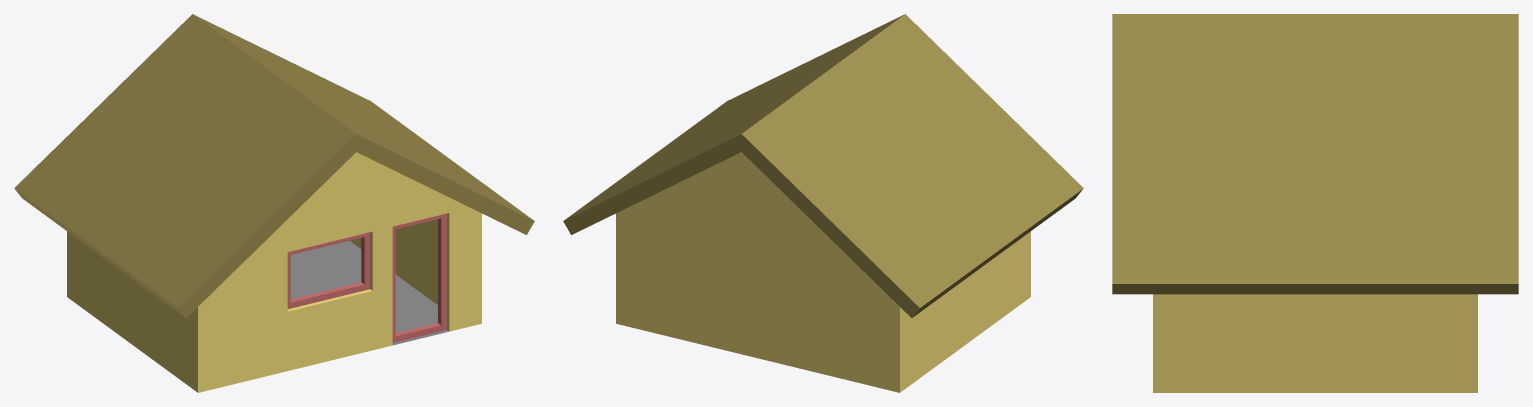
The model's file is result.glb.
3 views of the same model, side by side, from view 1: azimuth 30°, elevation 25°; view 2: azimuth 150°, elevation 25°; view 3: azimuth 270°, elevation 25° (orthographic). The views are drawn at different scales.
Visible parts, largest first — view 1: c47c872d-7418-45e8-9ee3-3fa18cd65d11__undefined (×2), 78a95823-5140-4dba-9b83-103651892dc0__undefined, 743ed8a5-52cd-4c85-9134-9ae9632e7d97__Plane_5, 9e2fc729-b1dd-456e-9fbe-a17c859ab359__Box, bfcc2a67-2841-454d-b474-05c8abf3bd27__Box_3; view 2: c47c872d-7418-45e8-9ee3-3fa18cd65d11__undefined (×2), 78a95823-5140-4dba-9b83-103651892dc0__undefined; view 3: c47c872d-7418-45e8-9ee3-3fa18cd65d11__undefined, 78a95823-5140-4dba-9b83-103651892dc0__undefined.
Boxes of the visible parts, bbox=[...] form: c47c872d-7418-45e8-9ee3-3fa18cd65d11__undefined (×2): bbox=[14, 14, 534, 317]; 78a95823-5140-4dba-9b83-103651892dc0__undefined: bbox=[67, 152, 481, 392]; 743ed8a5-52cd-4c85-9134-9ae9632e7d97__Plane_5: bbox=[290, 241, 448, 345]; 9e2fc729-b1dd-456e-9fbe-a17c859ab359__Box: bbox=[392, 213, 446, 342]; bfcc2a67-2841-454d-b474-05c8abf3bd27__Box_3: bbox=[287, 232, 370, 308]; c47c872d-7418-45e8-9ee3-3fa18cd65d11__undefined (×2): bbox=[563, 14, 1083, 317]; 78a95823-5140-4dba-9b83-103651892dc0__undefined: bbox=[616, 152, 1030, 392]; c47c872d-7418-45e8-9ee3-3fa18cd65d11__undefined: bbox=[1112, 14, 1518, 294]; 78a95823-5140-4dba-9b83-103651892dc0__undefined: bbox=[1153, 294, 1477, 392].
Size of the model in its own units: 629 by 398 by 500.
